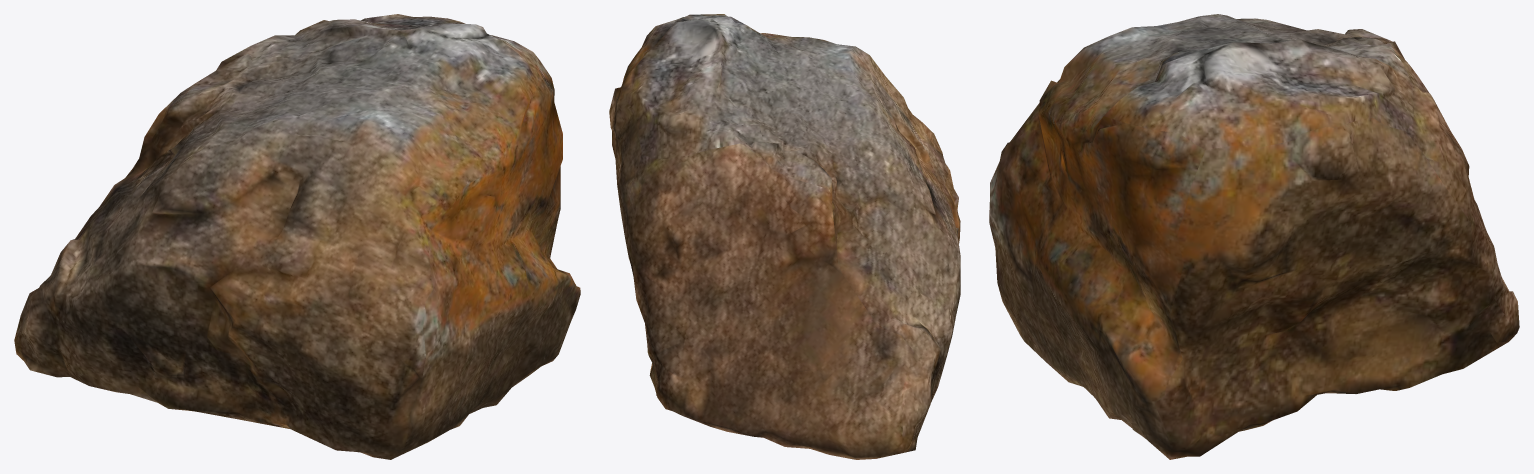
File: namaqualand_boulder_04.glb
3 views of the same model, side by side, from view 1: azimuth 30°, elevation 25°; view 2: azimuth 150°, elevation 25°; view 3: azimuth 270°, elevation 25° (orthographic). The views are drawn at different scales.
Parts seen in each view (by area): view 1: boulder; view 2: boulder; view 3: boulder.
Boxes of the visible parts, x1=… form: boulder: x1=14, y1=14, x2=580, y2=459; boulder: x1=609, y1=14, x2=960, y2=459; boulder: x1=989, y1=14, x2=1519, y2=459.
Bounding box in the file's own units: 2.52 × 1.89 × 2.48.
Materials: 1 (1 with a texture image).
